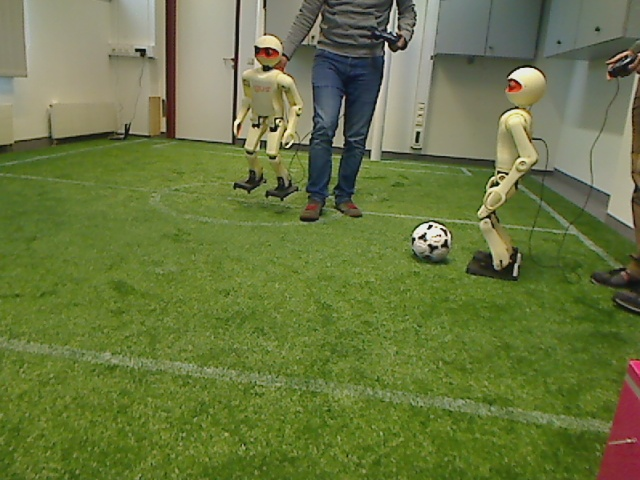ball: (407, 219, 458, 267)
robot: (466, 60, 547, 280), (232, 37, 305, 200)
